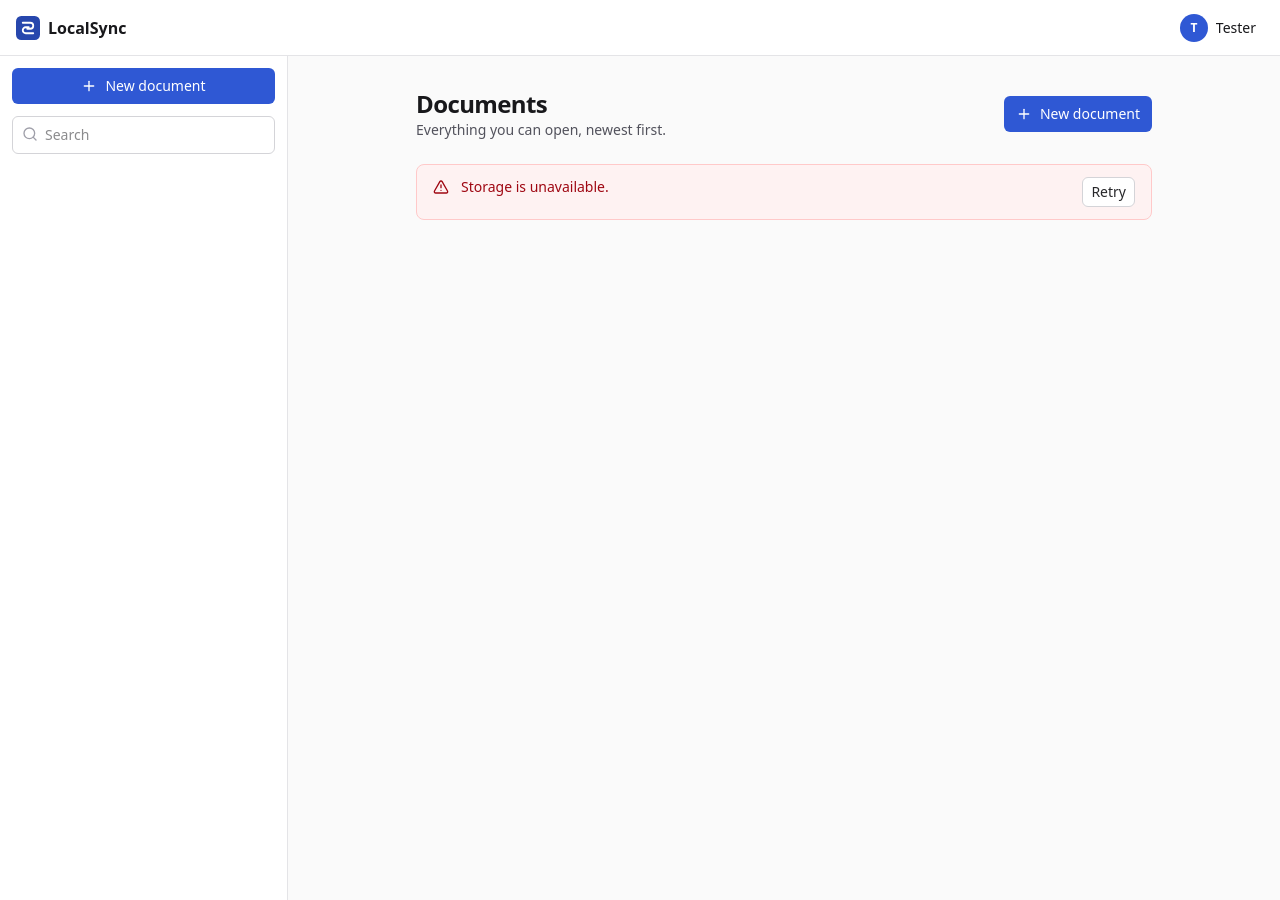
Scenario: dashboard › shows a retryable error when the list cannot be loaded
Expected: the message shows "Storage is unavailable.", 461,177 -> 609,196
Click the button "Retry" at (1109, 192), box 1082,177 -> 1135,207
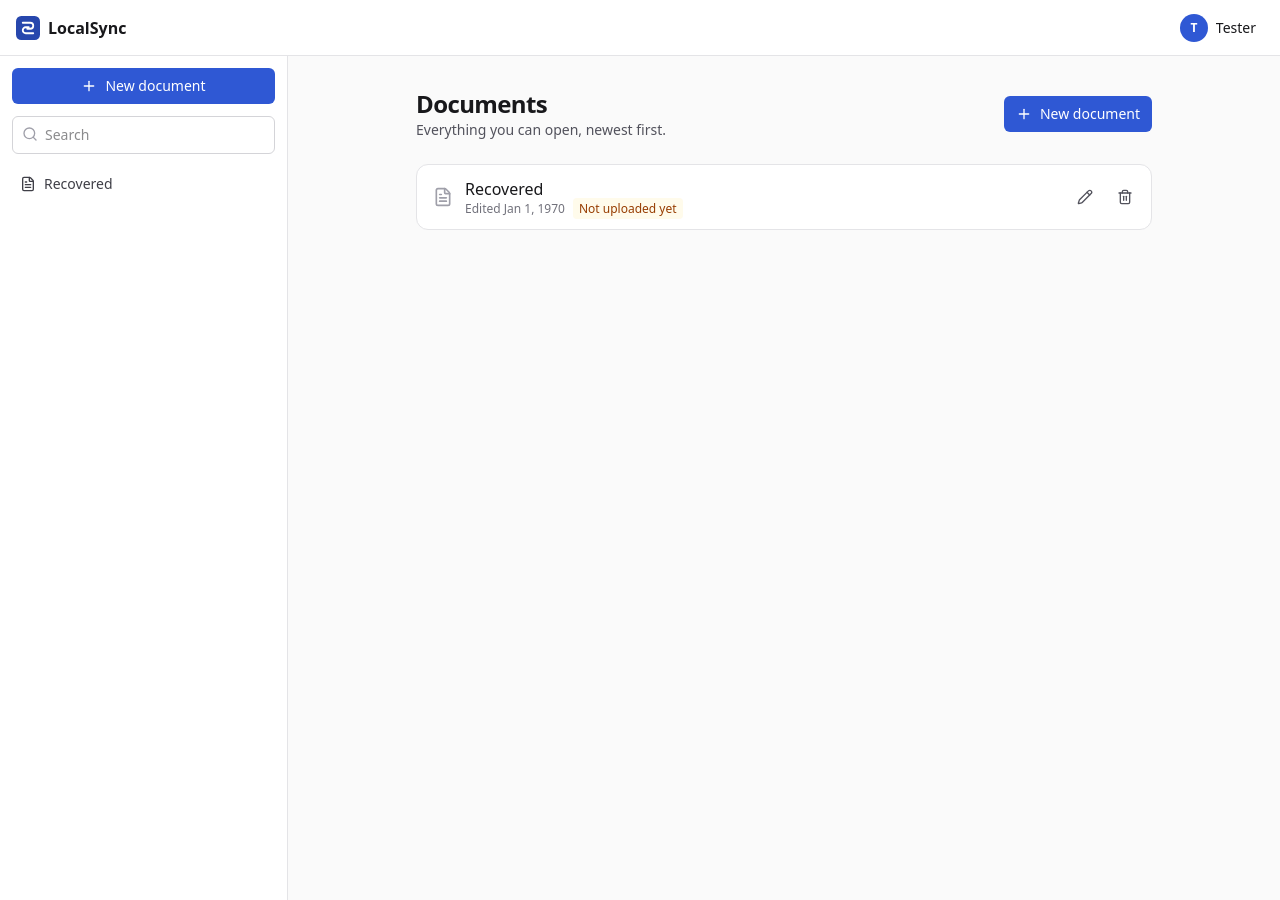
Result: the button named "Rename Recovered" is shown at 1067,179 -> 1103,215
